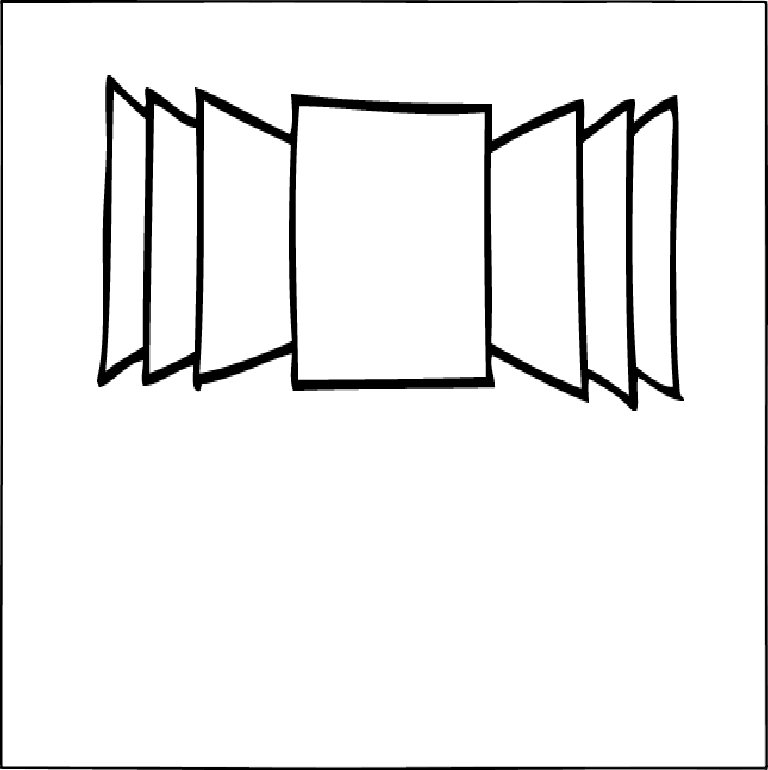slideshow: (93, 63, 690, 420)
